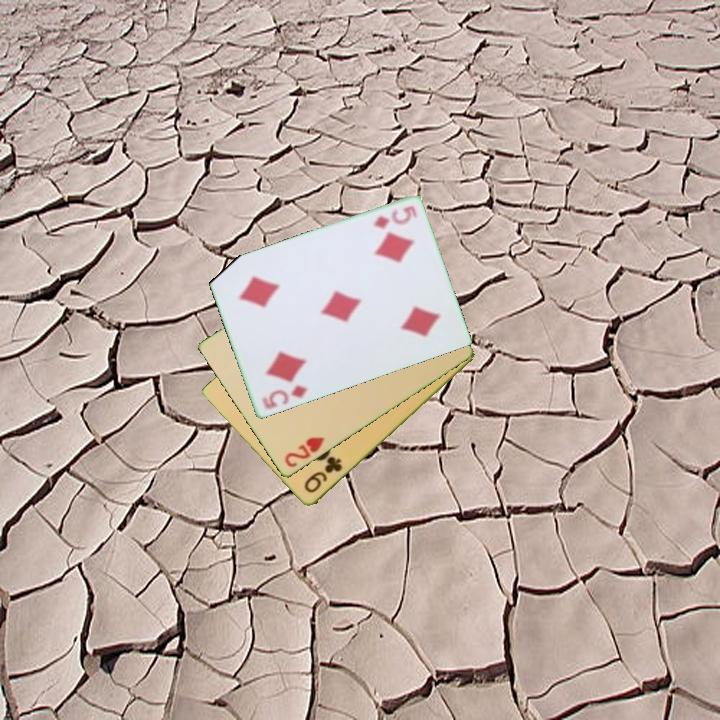2h: (281, 434, 327, 471)
5d: (258, 382, 311, 410), (370, 203, 420, 232)
9c: (300, 454, 345, 496)
